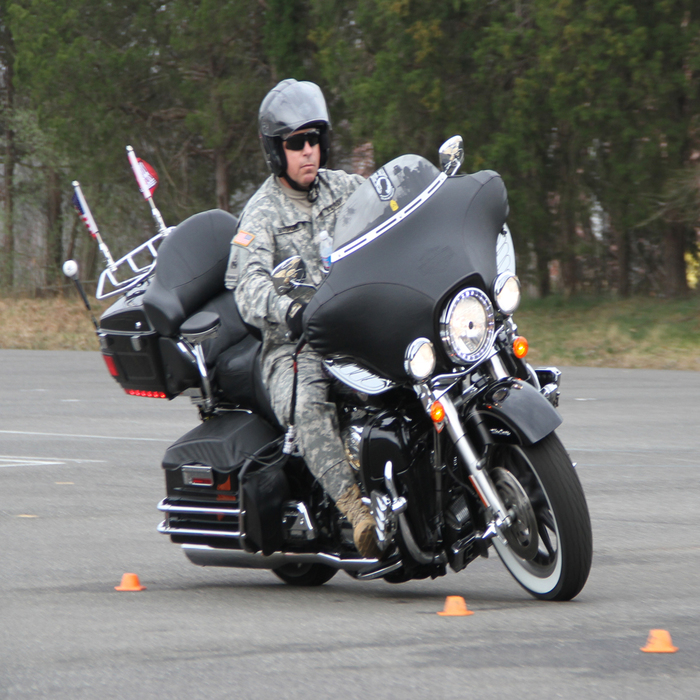h: (255, 75, 328, 192)
